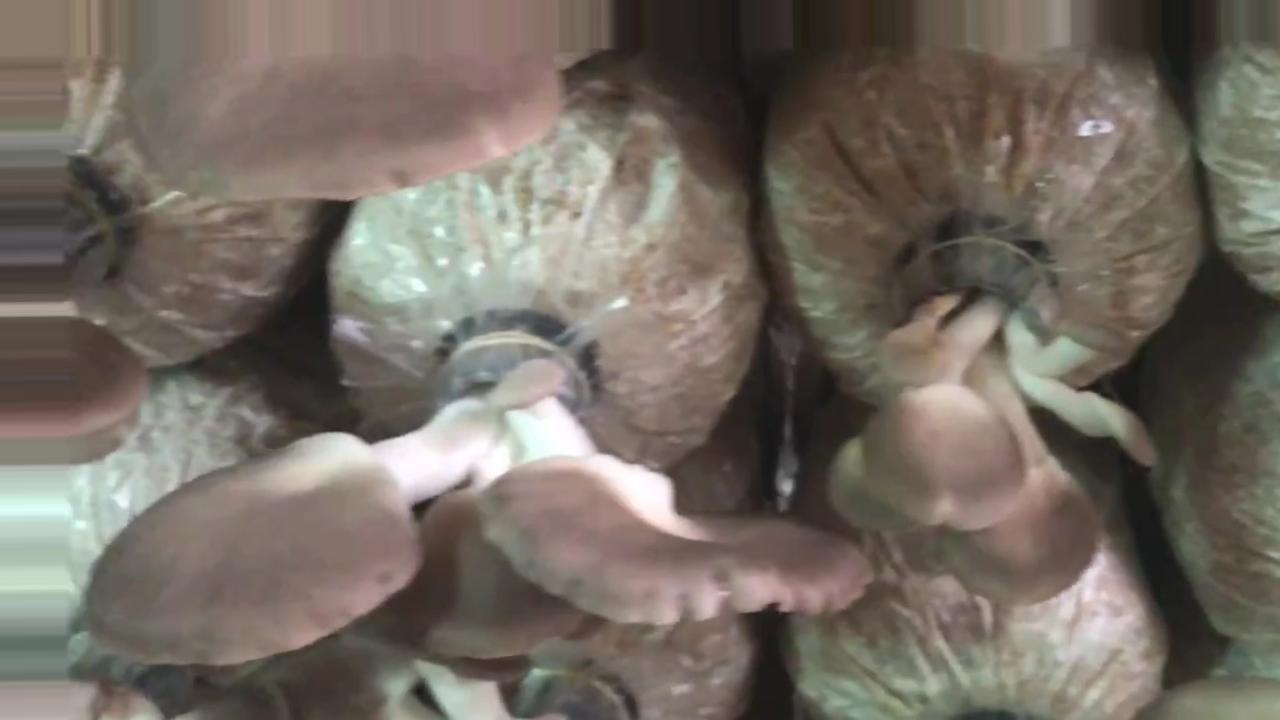nam: (81, 317, 881, 674), (825, 218, 1156, 610), (121, 64, 566, 202)
